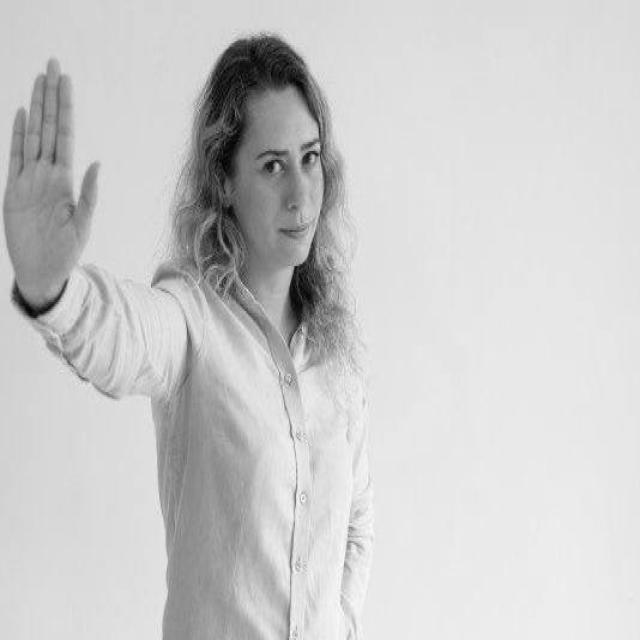stop: (0, 50, 105, 309)
